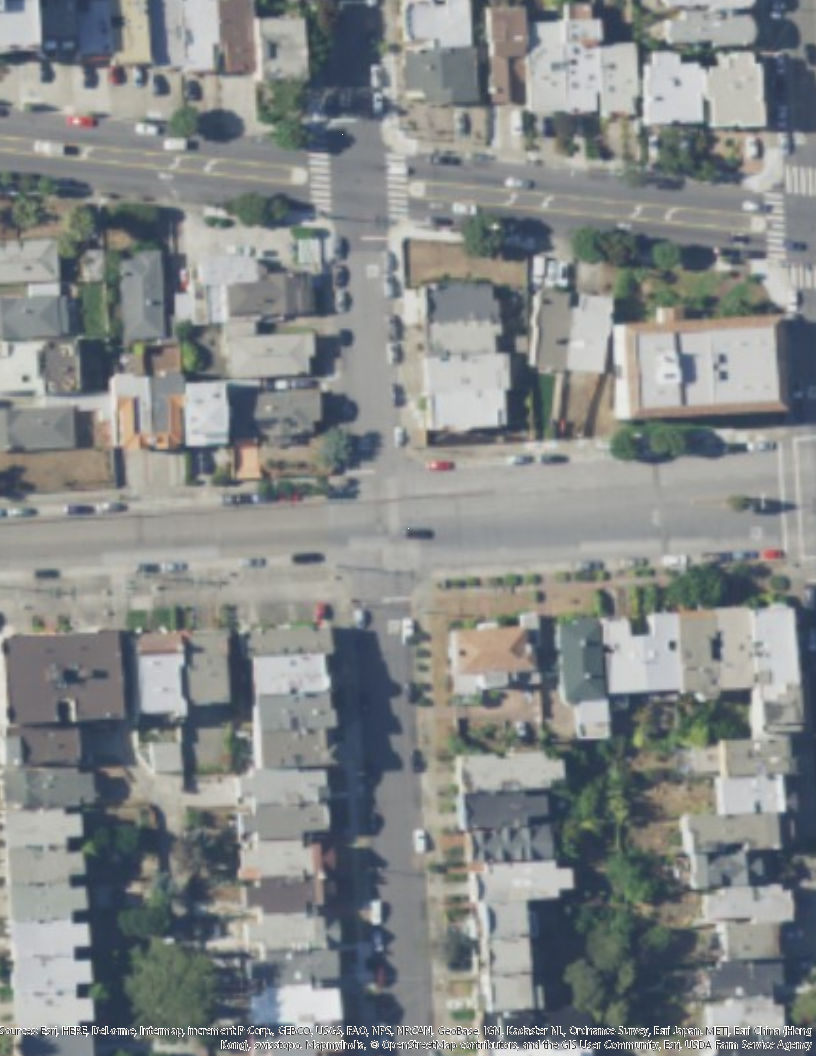zebracross: (382, 148, 409, 222), (308, 150, 331, 221), (764, 191, 787, 260), (785, 163, 816, 207), (791, 262, 816, 288)
